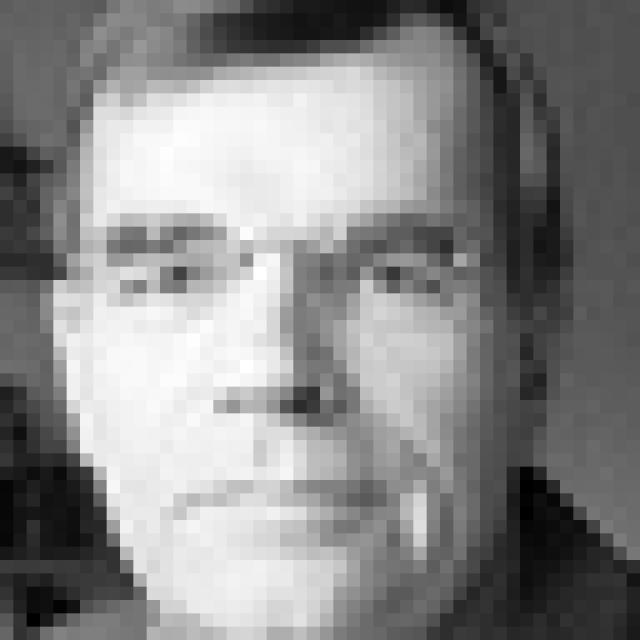neutral: (90, 194, 480, 552)
